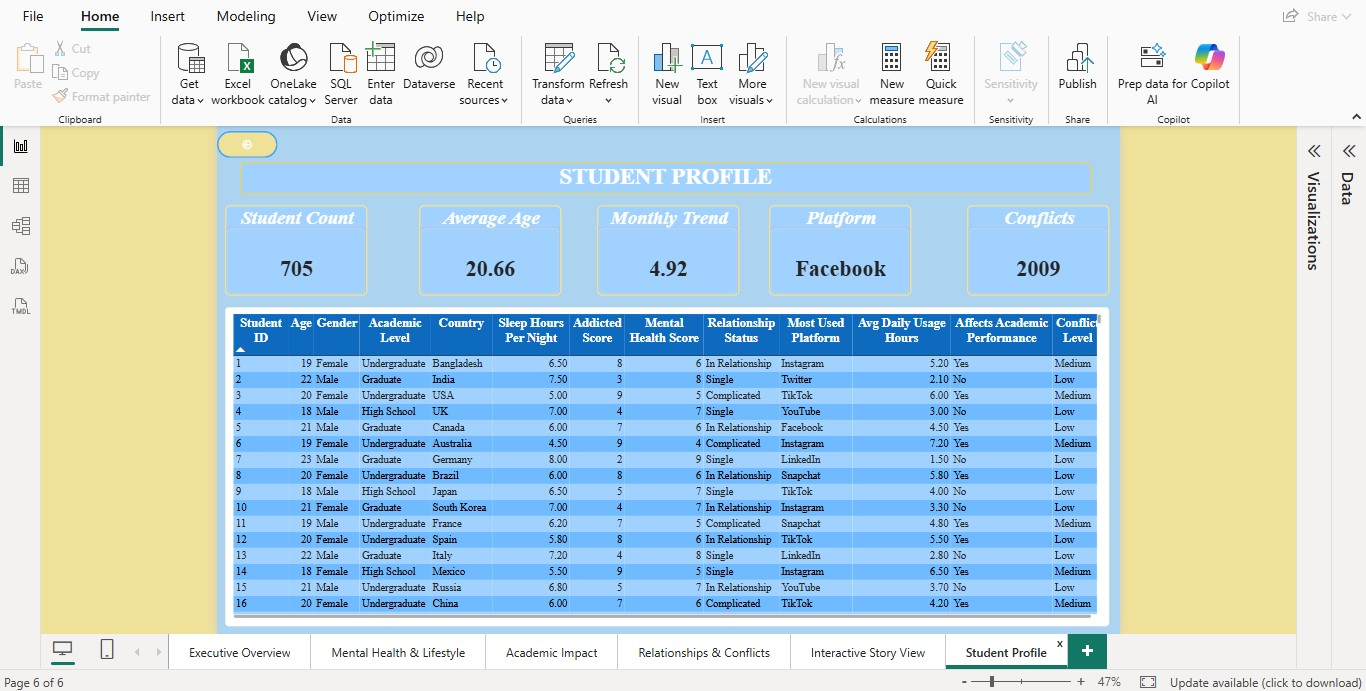

What the dashboard file says about the page in this screenshot:
{"tool":"powerbi","page":{"name":"Student Profile","canvas":[1920,1080],"ordinal":5},"visuals":[{"type":"actionButton","box":[0,9.9,128.9,57],"z":0},{"type":"cardVisual","title":"Average Age","fields":{"Data":["Avg(Student_Details.Age)"]},"box":[429,168.6,302.5,193.4],"z":1000},{"type":"cardVisual","title":"Monthly Trend","fields":{"Data":["Student_Details.Monthly Trend"]},"box":[808.3,168.6,302.5,193.4],"z":2000},{"type":"cardVisual","title":"Platform","fields":{"Data":["Min(Platform_Details.Most_Used_Platform)"]},"box":[1172.8,168.6,302.5,193.4],"z":3000},{"type":"cardVisual","title":"Conflicts","fields":{"Data":["Sum(Student_Details.Conflicts_Over_Social_Media)"]},"box":[1594.4,168.6,302.5,193.4],"z":4000},{"type":"cardVisual","title":"Student Count","fields":{"Data":["CountNonNull(Platform_Details.Student_ID)"]},"box":[17.4,168.6,302.5,193.4],"z":5000},{"type":"textbox","box":[49.6,76.9,1810.1,69.4],"z":6000},{"type":"tableEx","fields":{"Values":["Platform_Details.Student_ID","Student_Details.Age","Student_Details.Gender","Student_Details.Academic_Level","Student_Details.Country","Sum(Student_Details.Sleep_Hours_Per_Night)","Sum(Student_Details.Addicted_Score)","Sum(Student_Details.Mental_Health_Score)","Student_Details.Relationship_Status","Platform_Details.Most_Used_Platform","Sum(Platform_Details.Avg_Daily_Usage_Hours)","Platform_Details.Affects_Academic_Performance"]},"box":[17.4,384.3,1879.5,679.4],"z":7000}]}

Visuals, with their boxes on the page's 1920x1080 design canvas (x1, y1, x2, y2). These are canvas units, not pixel positions in the 1366x691 screenshot, which may show the page scaled, cropped or inside an application window:
actionButton: [0,10,129,67]
"Average Age" cardVisual: [429,169,732,362]
"Monthly Trend" cardVisual: [808,169,1111,362]
"Platform" cardVisual: [1173,169,1475,362]
"Conflicts" cardVisual: [1594,169,1897,362]
"Student Count" cardVisual: [17,169,320,362]
textbox: [50,77,1860,146]
tableEx - Platform_Details.Student_ID x Student_Details.Age: [17,384,1897,1064]
